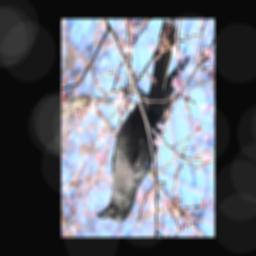Crow: (95, 22, 189, 224)
